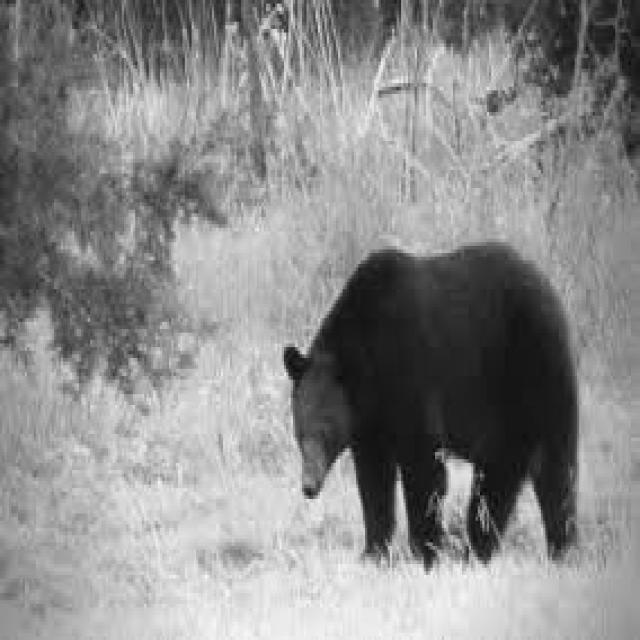Bear: (284, 246, 579, 561)
